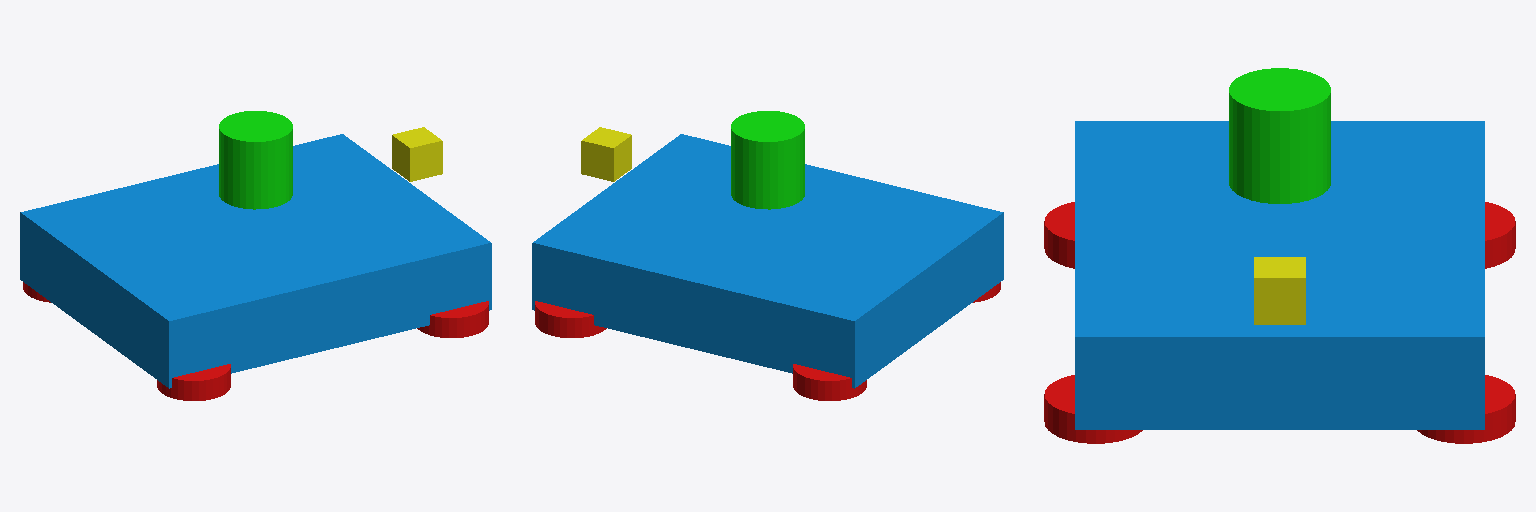
The robot description file, URDF, robot "mecanum_bot":
<?xml version="1.0"?>
<robot name="mecanum_bot">

  <!-- 底盘 -->
  <link name="base_link">
    <visual>
      <geometry>
        <box size="0.5 0.4 0.1"/>
      </geometry>
      <material name="ChassisColor">
        <color rgba="0.1 0.6 0.9 1"/> <!-- 蓝色底盘 -->
      </material>
    </visual>
    <collision>
      <geometry>
        <box size="0.5 0.4 0.1"/>
      </geometry>
    </collision>
    <inertial>
      <mass value="5"/>
      <inertia ixx="0.1" iyy="0.1" izz="0.1" ixy="0" ixz="0" iyz="0"/>
    </inertial>
  </link>

  <!-- 前左轮 -->
  <link name="front_left_wheel">
    <visual>
      <geometry>
        <cylinder radius="0.05" length="0.03"/>
      </geometry>
      <material name="WheelColor">
        <color rgba="0.9 0.1 0.1 1"/> <!-- 红色 -->
      </material>
    </visual>
    <collision>
      <geometry>
        <cylinder radius="0.05" length="0.03"/>
      </geometry>
    </collision>
    <inertial>
      <mass value="0.5"/>
      <inertia ixx="0.01" iyy="0.01" izz="0.01" ixy="0" ixz="0" iyz="0"/>
    </inertial>
  </link>
  <joint name="front_left_wheel_joint" type="continuous">
    <parent link="base_link"/>
    <child link="front_left_wheel"/>
    <origin xyz="0.2 0.18 -0.05" rpy="0 0 0"/>
    <axis xyz="0 1 0"/>
  </joint>

  <!-- 前右轮 -->
  <link name="front_right_wheel">
    <visual>
      <geometry>
        <cylinder radius="0.05" length="0.03"/>
      </geometry>
      <material name="WheelColor">
        <color rgba="0.9 0.1 0.1 1"/>
      </material>
    </visual>
    <collision>
      <geometry>
        <cylinder radius="0.05" length="0.03"/>
      </geometry>
    </collision>
    <inertial>
      <mass value="0.5"/>
      <inertia ixx="0.01" iyy="0.01" izz="0.01" ixy="0" ixz="0" iyz="0"/>
    </inertial>
  </link>
  <joint name="front_right_wheel_joint" type="continuous">
    <parent link="base_link"/>
    <child link="front_right_wheel"/>
    <origin xyz="0.2 -0.18 -0.05" rpy="0 0 0"/>
    <axis xyz="0 1 0"/>
  </joint>

  <!-- 后左轮 -->
  <link name="rear_left_wheel">
    <visual>
      <geometry>
        <cylinder radius="0.05" length="0.03"/>
      </geometry>
      <material name="WheelColor">
        <color rgba="0.9 0.1 0.1 1"/>
      </material>
    </visual>
    <collision>
      <geometry>
        <cylinder radius="0.05" length="0.03"/>
      </geometry>
    </collision>
    <inertial>
      <mass value="0.5"/>
      <inertia ixx="0.01" iyy="0.01" izz="0.01" ixy="0" ixz="0" iyz="0"/>
    </inertial>
  </link>
  <joint name="rear_left_wheel_joint" type="continuous">
    <parent link="base_link"/>
    <child link="rear_left_wheel"/>
    <origin xyz="-0.2 0.18 -0.05" rpy="0 0 0"/>
    <axis xyz="0 1 0"/>
  </joint>

  <!-- 后右轮 -->
  <link name="rear_right_wheel">
    <visual>
      <geometry>
        <cylinder radius="0.05" length="0.03"/>
      </geometry>
      <material name="WheelColor">
        <color rgba="0.9 0.1 0.1 1"/>
      </material>
    </visual>
    <collision>
      <geometry>
        <cylinder radius="0.05" length="0.03"/>
      </geometry>
    </collision>
    <inertial>
      <mass value="0.5"/>
      <inertia ixx="0.01" iyy="0.01" izz="0.01" ixy="0" ixz="0" iyz="0"/>
    </inertial>
  </link>
  <joint name="rear_right_wheel_joint" type="continuous">
    <parent link="base_link"/>
    <child link="rear_right_wheel"/>
    <origin xyz="-0.2 -0.18 -0.05" rpy="0 0 0"/>
    <axis xyz="0 1 0"/>
  </joint>

  <!-- 激光雷达 -->
  <link name="lidar_link">
    <visual>
      <geometry>
        <cylinder radius="0.05" length="0.1"/>
      </geometry>
      <material name="LidarColor">
        <color rgba="0.1 0.9 0.1 1"/> <!-- 绿色 -->
      </material>
    </visual>
  </link>
  <joint name="lidar_joint" type="fixed">
    <parent link="base_link"/>
    <child link="lidar_link"/>
    <origin xyz="0 0 0.15" rpy="0 0 0"/>
  </joint>

  <!-- 摄像头 -->
  <link name="camera_link">
    <visual>
      <geometry>
        <box size="0.05 0.05 0.05"/>
      </geometry>
      <material name="CameraColor">
        <color rgba="0.9 0.9 0.1 1"/> <!-- 黄色 -->
      </material>
    </visual>
  </link>
  <joint name="camera_joint" type="fixed">
    <parent link="base_link"/>
    <child link="camera_link"/>
    <origin xyz="0.25 0 0.1" rpy="0 0 0"/>
  </joint>

</robot>

--- Render facts (derived) ---
Views: 3 orthographic renders of the robot side by side, from view 1: azimuth 30°, elevation 25°; view 2: azimuth 150°, elevation 25°; view 3: azimuth 270°, elevation 25°.
Model mecanum_bot with 7 links and 6 joints (4 continuous, 2 fixed), rooted at base_link, posed all joints at 0.
Links seen in each view (by area): view 1: base_link, lidar_link, camera_link, rear_right_wheel, front_right_wheel; view 2: base_link, lidar_link, camera_link, rear_left_wheel, front_left_wheel; view 3: base_link, lidar_link, camera_link, front_left_wheel, front_right_wheel, rear_left_wheel, rear_right_wheel.
Boxes of the visible links, bbox=[...] form: base_link: bbox=[20, 134, 491, 388]; lidar_link: bbox=[219, 111, 292, 209]; camera_link: bbox=[392, 127, 442, 181]; rear_right_wheel: bbox=[157, 364, 230, 400]; front_right_wheel: bbox=[417, 301, 488, 337]; base_link: bbox=[532, 134, 1003, 388]; lidar_link: bbox=[731, 111, 804, 209]; camera_link: bbox=[581, 127, 631, 181]; rear_left_wheel: bbox=[793, 364, 866, 400]; front_left_wheel: bbox=[535, 301, 606, 337]; base_link: bbox=[1075, 121, 1484, 429]; lidar_link: bbox=[1229, 68, 1330, 203]; camera_link: bbox=[1254, 257, 1305, 324]; front_left_wheel: bbox=[1417, 375, 1515, 443]; front_right_wheel: bbox=[1044, 375, 1142, 443]; rear_left_wheel: bbox=[1485, 202, 1515, 268]; rear_right_wheel: bbox=[1044, 202, 1074, 268].
Bounding box of the posed robot: 0.525 × 0.46 × 0.265 m (x, y, z).
Geometry: primitives only (box / cylinder / sphere), no mesh files.
